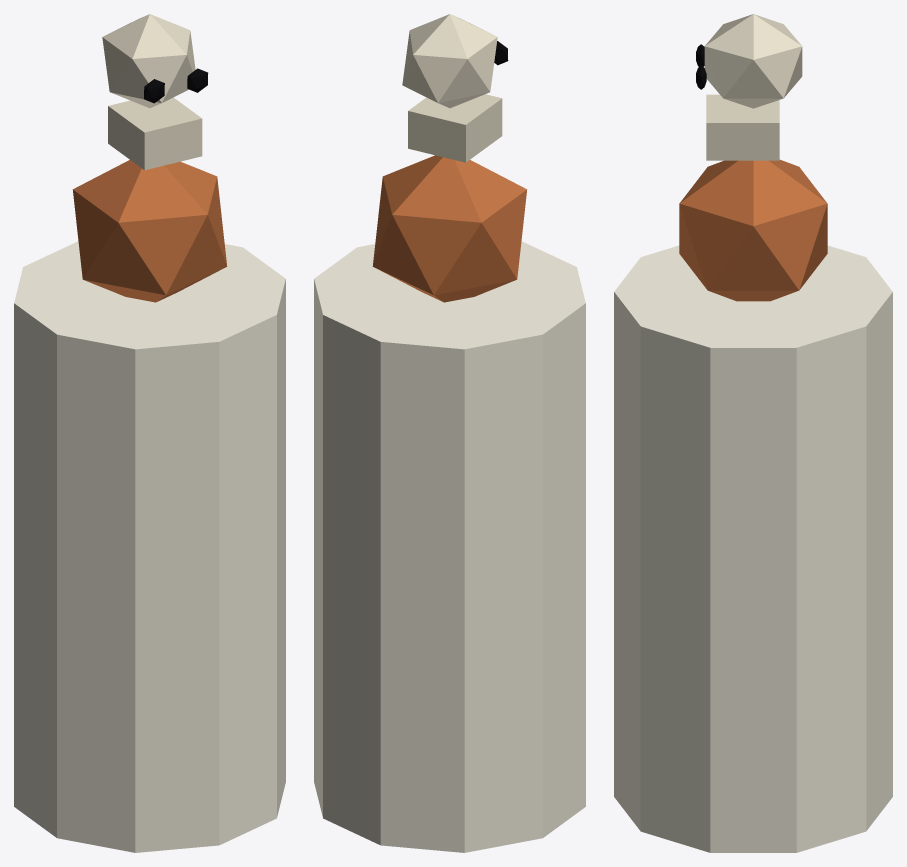
Rendered from Item_OR_Tonic_62.glb.
The picture shows the model from 3 angles, left to right: view 1: azimuth 30°, elevation 25°; view 2: azimuth 150°, elevation 25°; view 3: azimuth 270°, elevation 25°; orthographic projection.
Parts seen in each view (by area): view 1: Item_OR_Tonic_62; view 2: Item_OR_Tonic_62; view 3: Item_OR_Tonic_62.
Boxes of the visible parts, <box> form: Item_OR_Tonic_62: <box>14,14,285,852</box>; Item_OR_Tonic_62: <box>314,14,585,852</box>; Item_OR_Tonic_62: <box>614,14,892,852</box>.
Bounding box in the file's own units: 0.0761 × 0.248 × 0.08.
